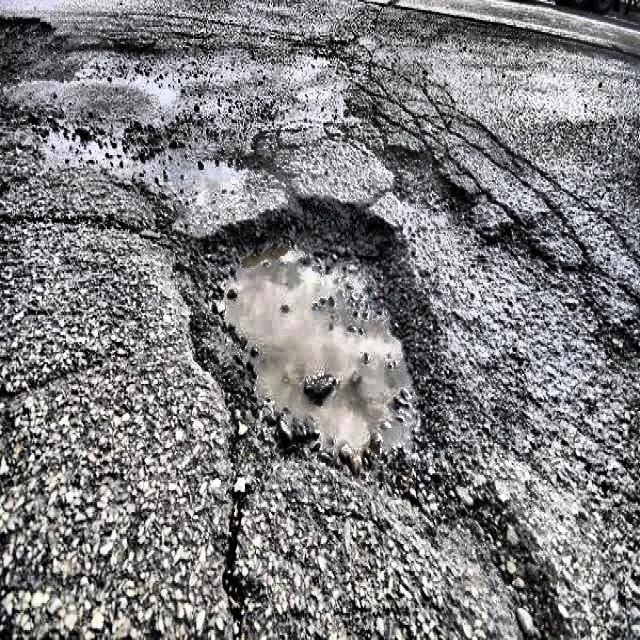buraco: (170, 188, 442, 488)
